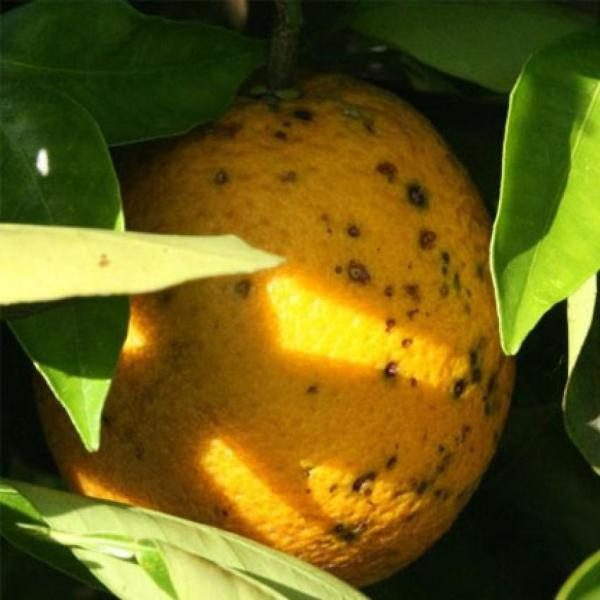Trips: (46, 62, 526, 588)
